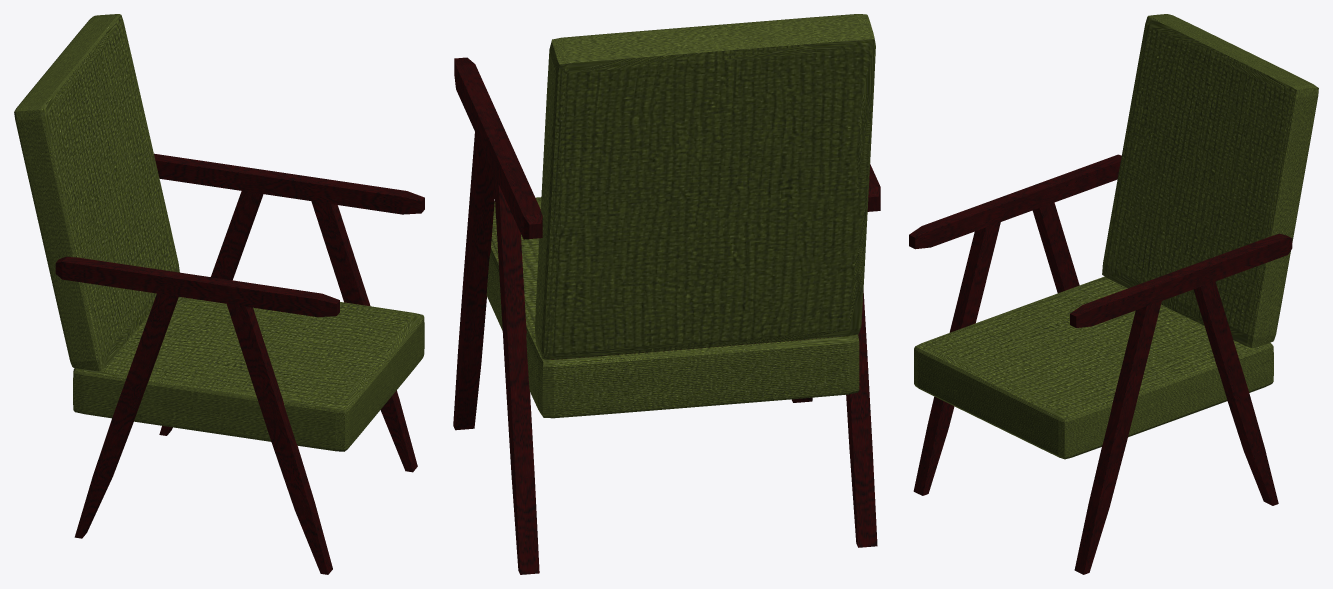
The model's file is chair.fbx.
The picture shows the model from 3 angles, left to right: view 1: azimuth 30°, elevation 25°; view 2: azimuth 150°, elevation 25°; view 3: azimuth 270°, elevation 25°; orthographic projection. The views are drawn at different scales.
Parts seen in each view (by area): view 1: chair; view 2: chair; view 3: chair.
Part boxes in pixels (bbox=[...]): chair: bbox=[14, 14, 424, 574]; chair: bbox=[453, 14, 880, 574]; chair: bbox=[909, 14, 1318, 574].
Size of the model in its own units: 85.56 by 94.12 by 87.47.
2 materials, 2 textured.
